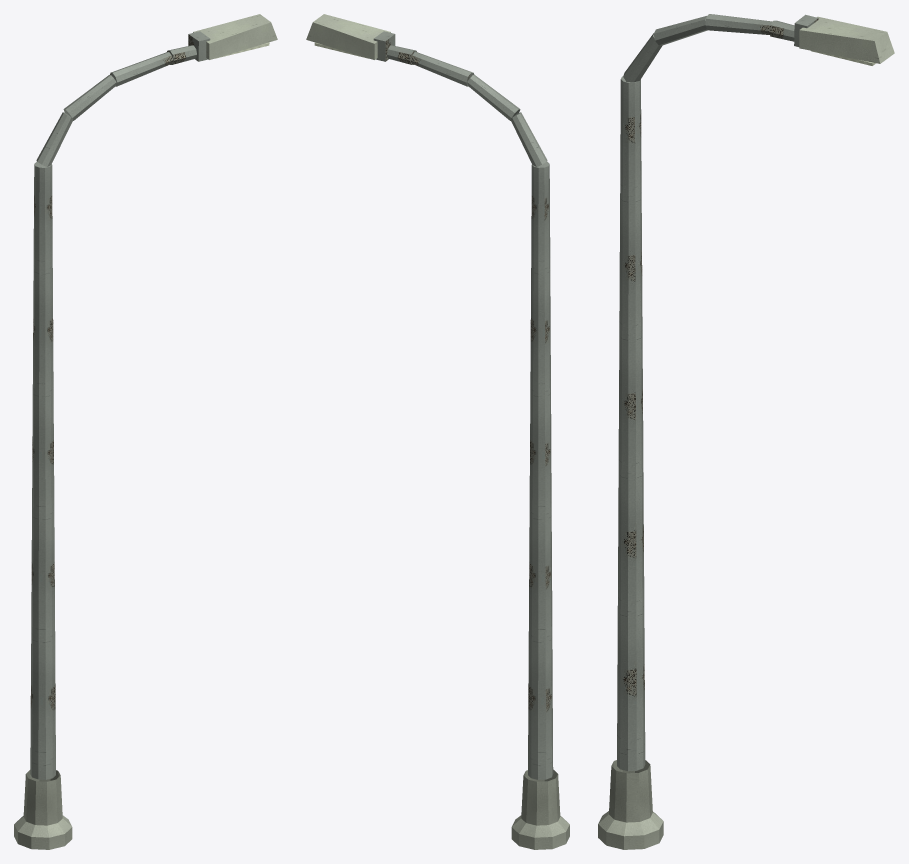
The model's file is streetlight_v1.glb.
The picture shows the model from 3 angles, left to right: view 1: azimuth 30°, elevation 25°; view 2: azimuth 150°, elevation 25°; view 3: azimuth 330°, elevation 25°; orthographic projection. The views are drawn at different scales.
Parts seen in each view (by area): view 1: Variant_streetlight_1; view 2: Variant_streetlight_1; view 3: Variant_streetlight_1.
Boxes of the visible parts, bbox=[...] form: Variant_streetlight_1: bbox=[14, 14, 277, 849]; Variant_streetlight_1: bbox=[306, 14, 569, 849]; Variant_streetlight_1: bbox=[598, 14, 894, 849].
Bounding box in the file's own units: 2.6 × 7.5 × 0.4945.
4 materials, 4 textured.
